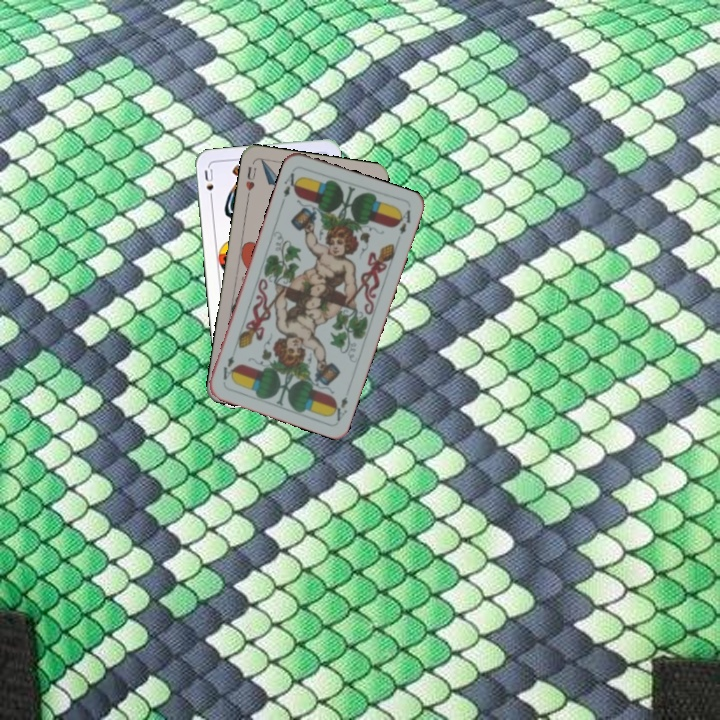EA: (278, 169, 302, 205), (328, 393, 350, 424)
HU: (242, 163, 259, 200)
SU: (200, 165, 216, 204)
